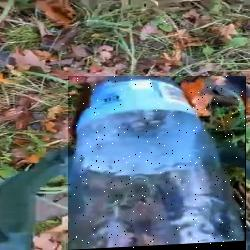plastic: (68, 76, 246, 250)
